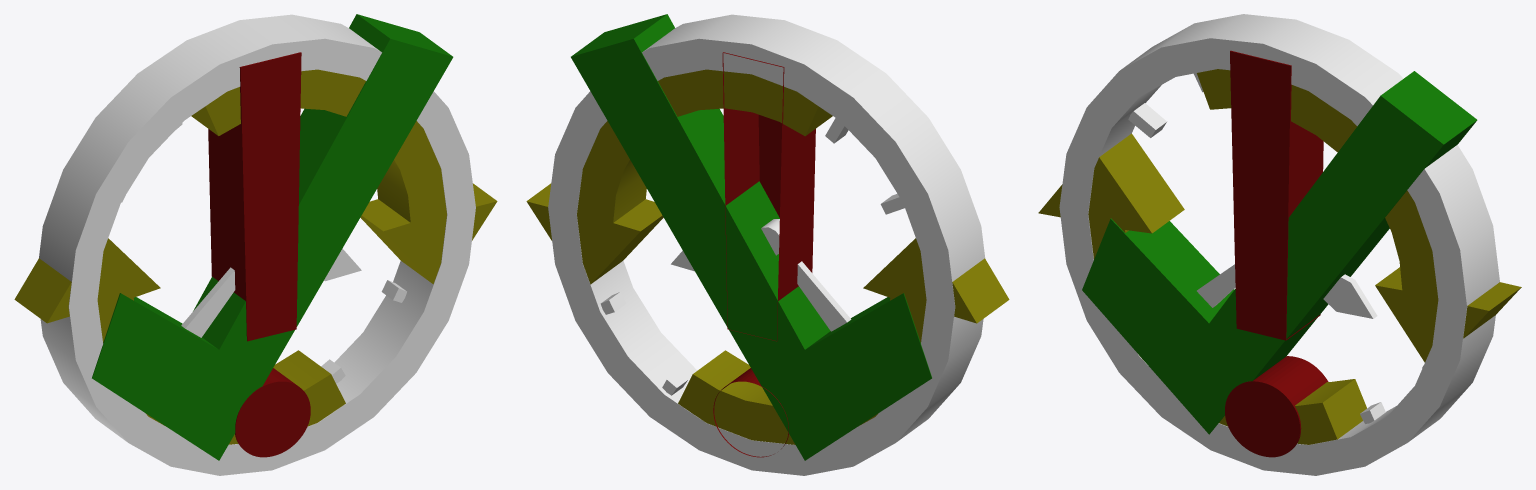
File: Icons.FBX
The picture shows the model from 3 angles, left to right: view 1: azimuth 30°, elevation 25°; view 2: azimuth 150°, elevation 25°; view 3: azimuth 330°, elevation 25°; orthographic projection.
Visible parts, largest first — view 1: Queued, DoneOK, Issue, Processing; view 2: Queued, DoneOK, Processing, Issue; view 3: Queued, DoneOK, Issue, Processing.
Boxes of the visible parts, bbox=[...] form: Queued: bbox=[39, 14, 475, 475]; DoneOK: bbox=[92, 14, 453, 460]; Issue: bbox=[208, 52, 310, 457]; Processing: bbox=[14, 69, 497, 444]; Queued: bbox=[548, 14, 985, 475]; DoneOK: bbox=[571, 14, 931, 460]; Processing: bbox=[526, 69, 1009, 444]; Issue: bbox=[713, 52, 815, 457]; Queued: bbox=[1059, 14, 1499, 475]; DoneOK: bbox=[1082, 71, 1477, 434]; Issue: bbox=[1225, 50, 1328, 457]; Processing: bbox=[1038, 69, 1521, 444].
Bounding box in the file's own units: 9.94 × 8.98 × 1.32.
